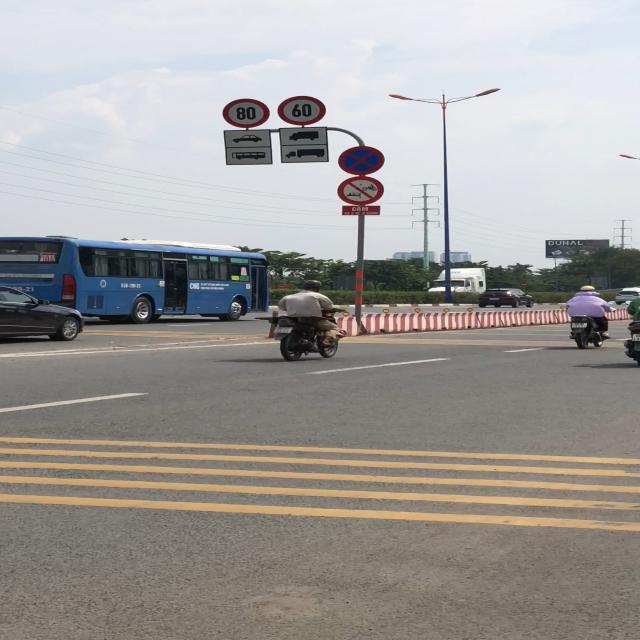Bien bao cam dung xe va do xe: (338, 144, 386, 177)
Bien bao toc do toi da cho phep: (278, 94, 328, 128), (222, 97, 272, 129)
